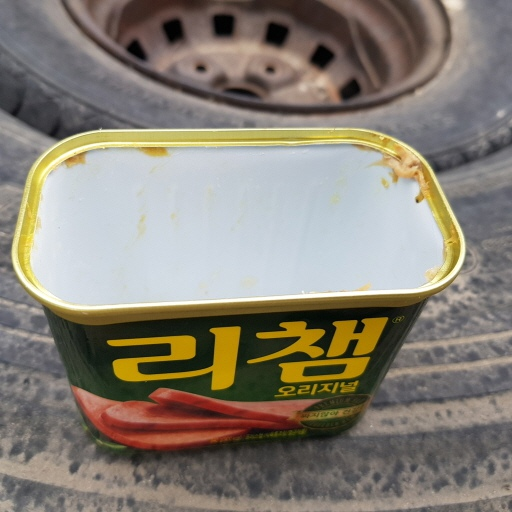Metal_2: (6, 128, 469, 461)
